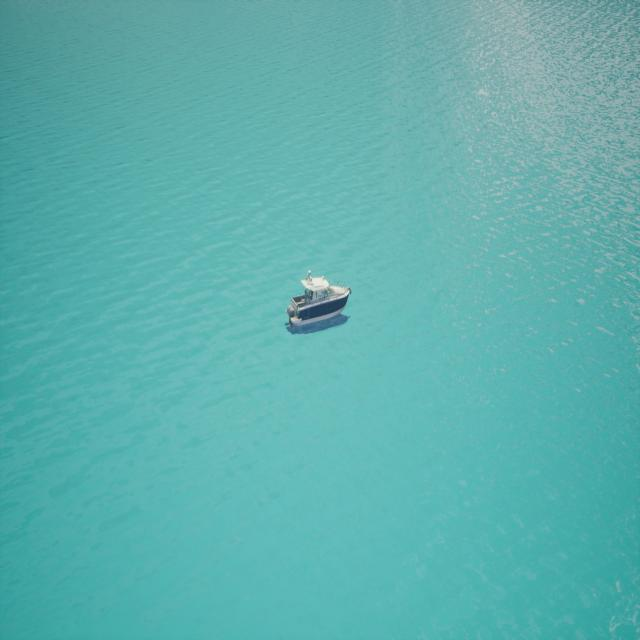ship: (286, 272, 350, 333)
